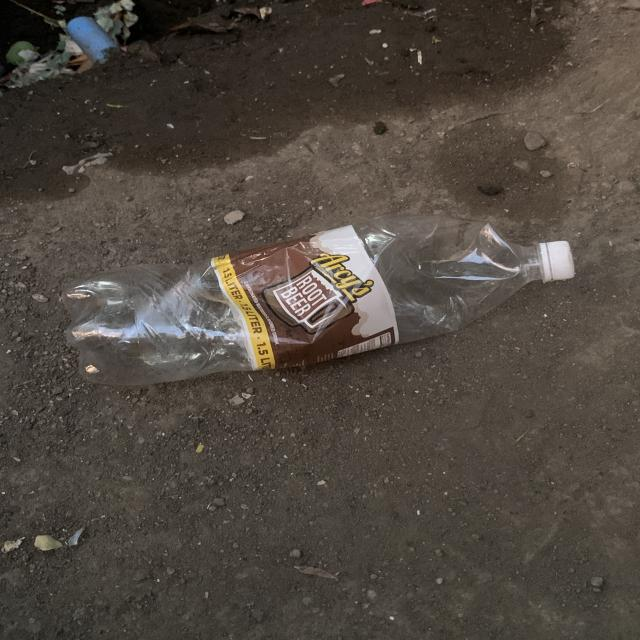Bottle: (62, 215, 575, 385)
